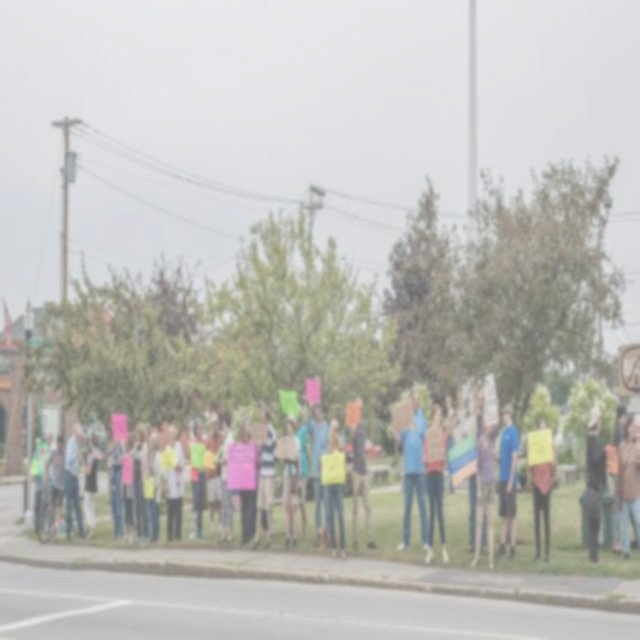pessoa: (389, 381, 432, 557), (523, 416, 559, 568), (420, 398, 450, 572), (470, 413, 502, 571), (491, 400, 521, 562), (348, 396, 378, 554), (583, 400, 610, 568), (306, 395, 334, 547), (319, 418, 348, 562), (250, 404, 278, 550), (467, 387, 490, 557), (278, 406, 304, 549), (160, 416, 187, 547), (616, 414, 639, 564), (212, 410, 236, 546), (63, 420, 89, 542), (256, 405, 279, 541), (202, 410, 225, 544), (186, 413, 209, 544), (42, 434, 68, 544), (294, 403, 312, 547), (79, 429, 100, 544), (132, 419, 150, 549), (107, 420, 126, 542), (238, 411, 253, 549), (120, 428, 136, 548), (146, 430, 162, 548), (28, 435, 46, 536), (442, 394, 456, 496), (611, 402, 627, 449), (45, 429, 56, 480), (142, 422, 152, 464), (106, 436, 112, 506), (339, 426, 346, 444)
